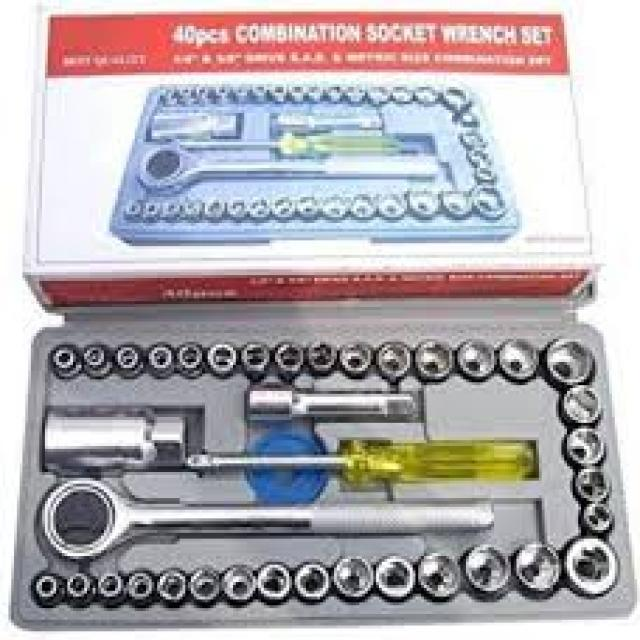screwdriver: (177, 432, 542, 486)
wrench: (39, 472, 500, 568)
